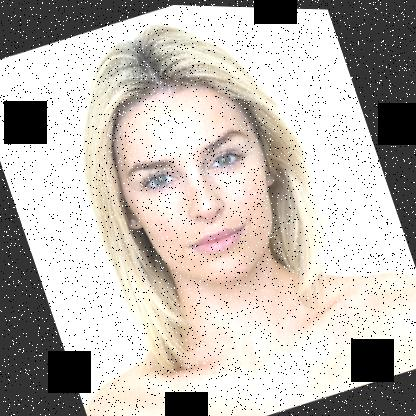Female: (88, 59, 304, 305)
